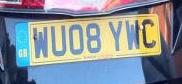8: (86, 22, 101, 53)
O: (68, 24, 84, 55)
U: (50, 24, 66, 56)
W: (32, 26, 49, 59)
Y: (107, 20, 123, 52), (125, 18, 140, 50)
